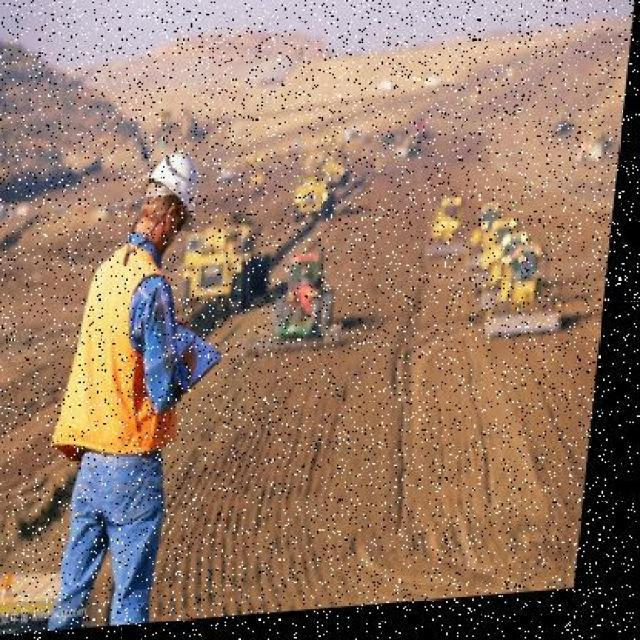helmet: (146, 151, 206, 216)
vest: (60, 239, 201, 467)
